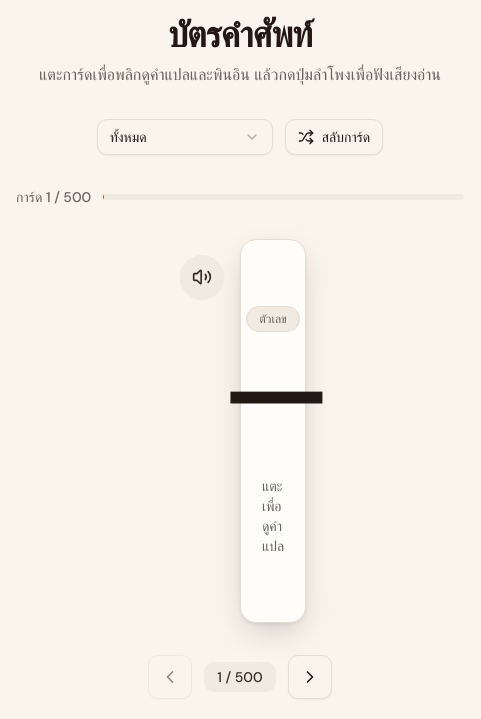
Test: FlashcardsPage › advances to the next card with an updated progress indicator
Click the button named "การ์ดถัดไป" at point(310, 677), box [288, 655, 332, 699]
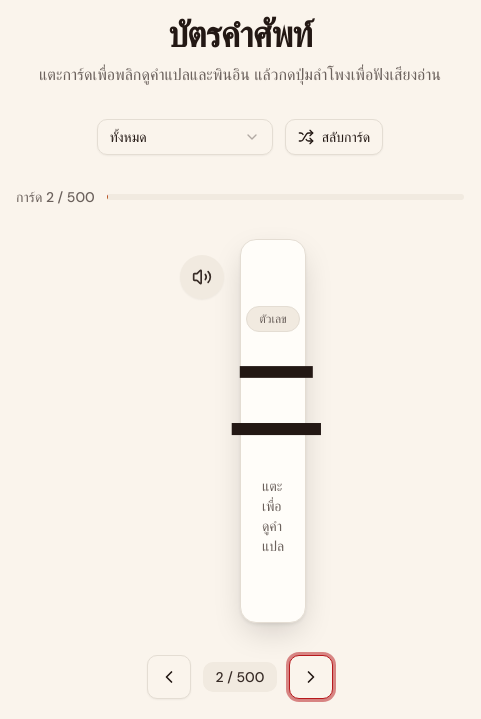
Check: the text "การ์ด 2 / 500" is shown, box [16, 187, 95, 207]
